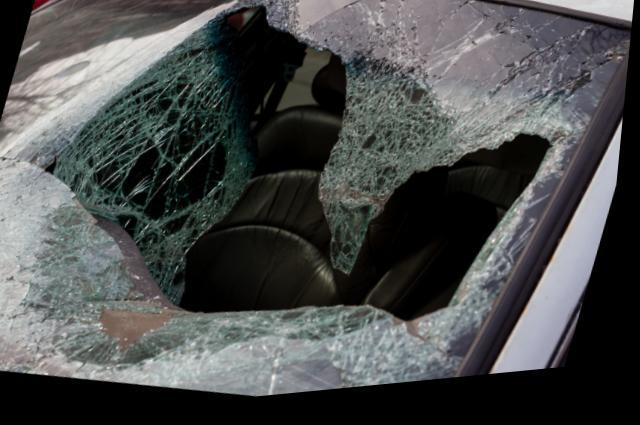glass shatter: (0, 0, 633, 402)
